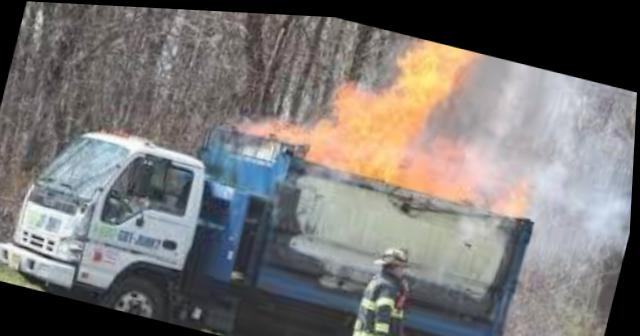fire: (228, 10, 590, 235)
